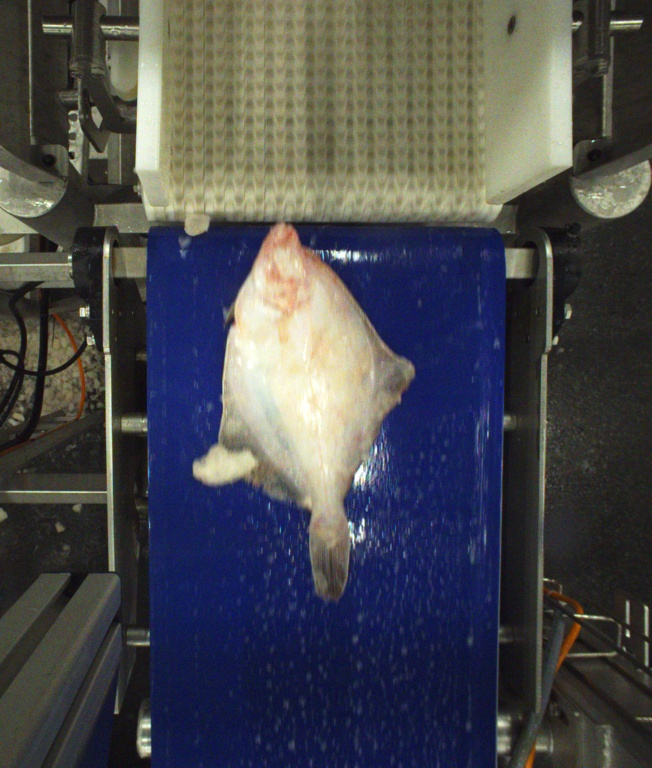PLE: (215, 222, 416, 593)
